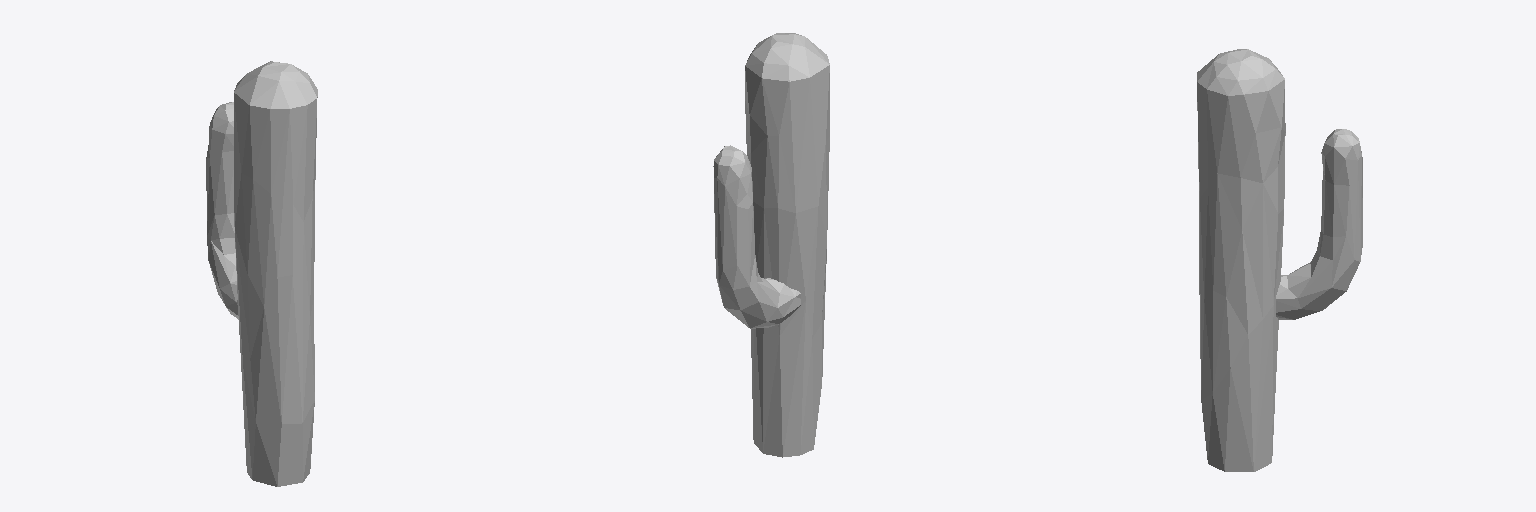
File: Cactus05.obj
3 views of the same model, side by side, from view 1: azimuth 30°, elevation 25°; view 2: azimuth 150°, elevation 25°; view 3: azimuth 270°, elevation 25° (orthographic).
Parts seen in each view (by area): view 1: Cylinder, Cylinder.002; view 2: Cylinder, Cylinder.002; view 3: Cylinder, Cylinder.002.
Part boxes in pixels (x1,y1,x2,y2): Cylinder: (234,61,317,486); Cylinder.002: (206,102,238,319); Cylinder: (745,33,829,457); Cylinder.002: (713,145,800,328); Cylinder: (1197,49,1285,471); Cylinder.002: (1276,129,1362,319).
Bounding box in the file's own units: 0.6122 × 3.28 × 1.22.